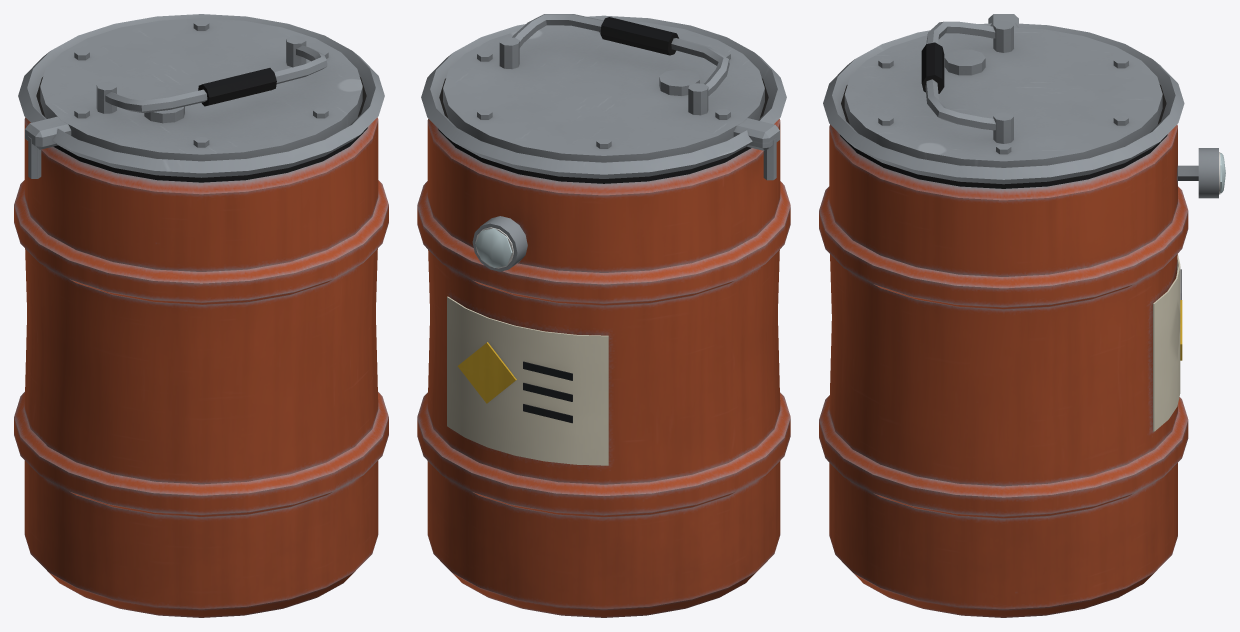
The model's file is barril_metal.fbx.
3 renders of one model, left to right at view 1: azimuth 30°, elevation 25°; view 2: azimuth 150°, elevation 25°; view 3: azimuth 270°, elevation 25°, orthographic.
Parts seen in each view (by area): view 1: barril_metal, barril_metal_asa; view 2: barril_metal, barril_metal_asa; view 3: barril_metal, barril_metal_asa.
Part boxes in pixels (left/top/right/bottom): barril_metal: left=14, top=14, right=388, bottom=617; barril_metal_asa: left=105, top=45, right=327, bottom=112; barril_metal: left=417, top=15, right=790, bottom=617; barril_metal_asa: left=512, top=14, right=729, bottom=95; barril_metal: left=819, top=14, right=1225, bottom=617; barril_metal_asa: left=921, top=21, right=995, bottom=130.
Size of the model in its own units: 1.48 by 2.11 by 1.59.
1 material, 1 textured.
